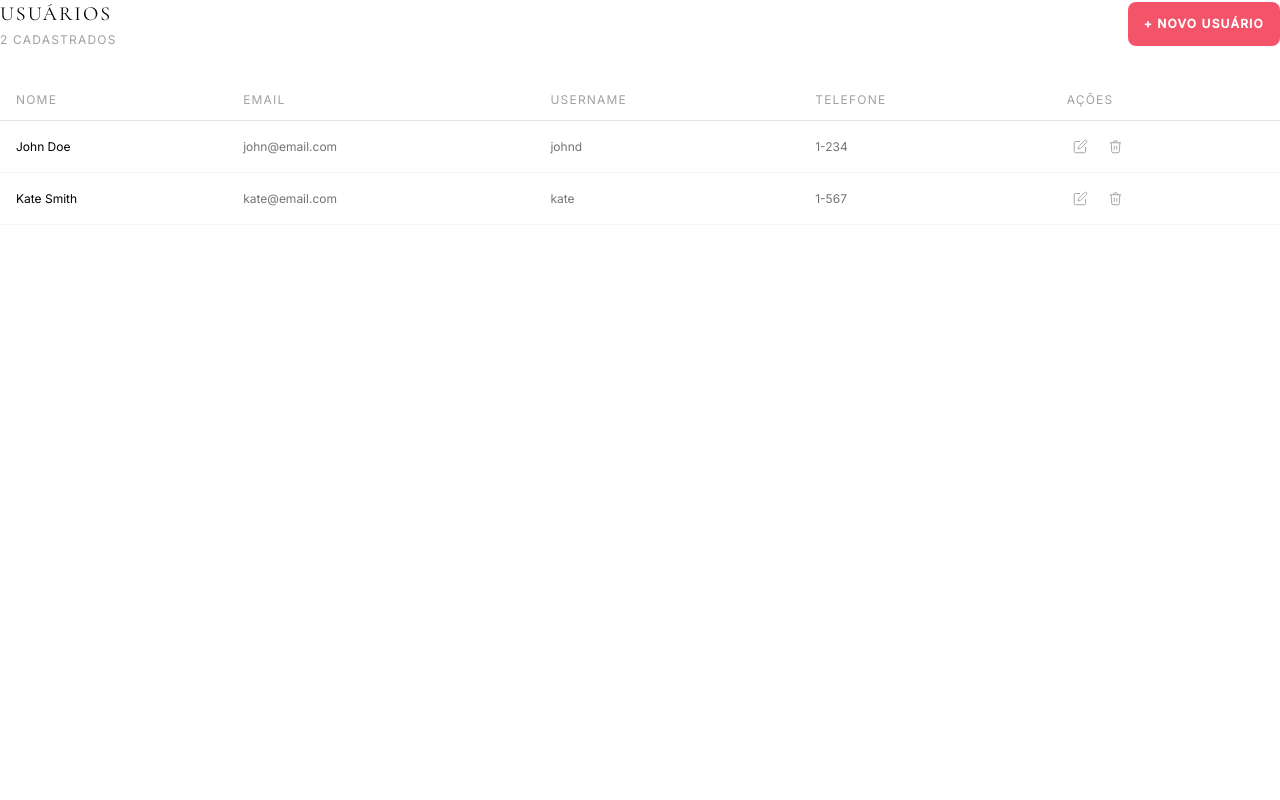
Test: UsersPage (Admin) › CA-F2.1-2: creates a new user and shows it in the list
The width and height of the screenshot is (1280, 800).
Click the button "+ Novo Usuário".
click(1204, 24)  # box [1128,2,1279,46]
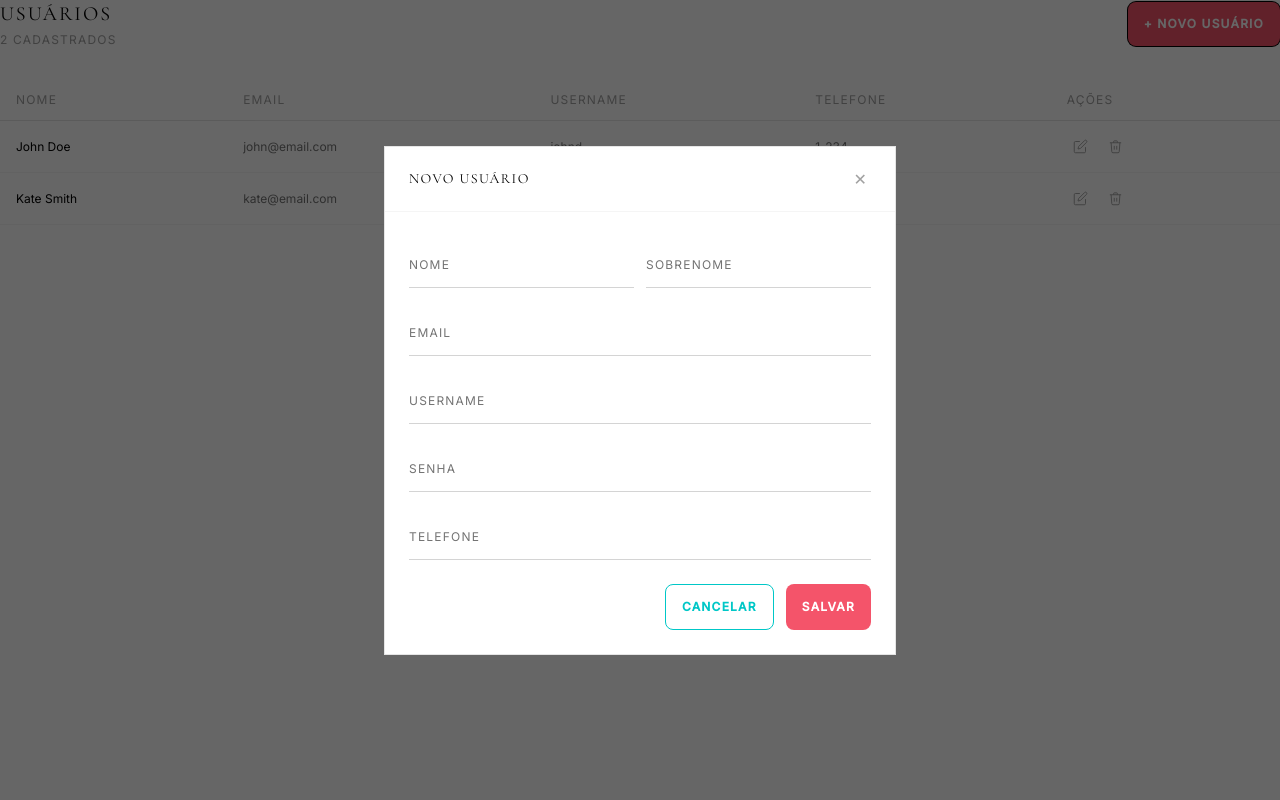
Note: Find inputs within the modal dialog
Type "New" into the field labelled "Nome".
click(522, 273); type("New")  # box [409,258,634,288]
Type "User" into the field labelled "Sobrenome".
click(758, 273); type("User")  # box [646,258,871,288]
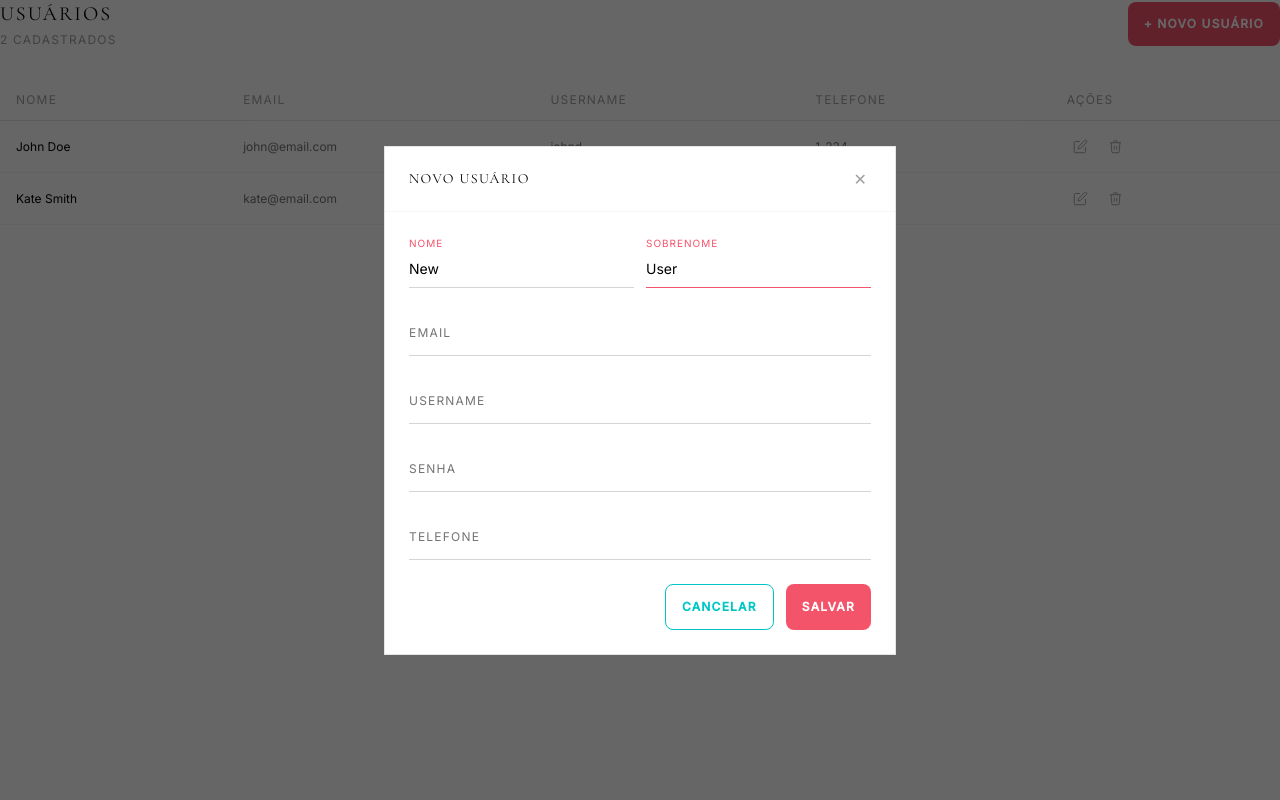
Type "new@email.com" into the field labelled "Email".
click(640, 341); type("new@email.com")  # box [409,326,871,356]
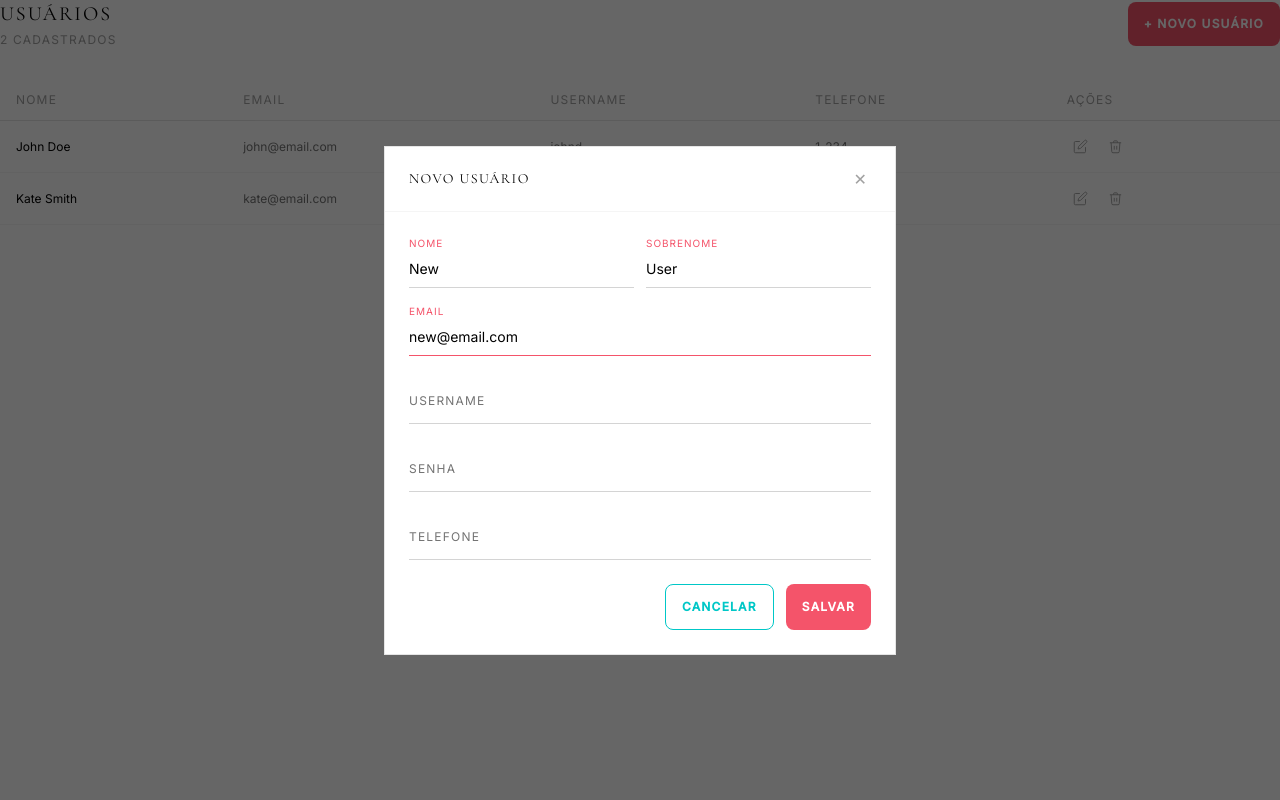
Type "newuser" into the field labelled "Username".
click(640, 409); type("newuser")  # box [409,394,871,424]
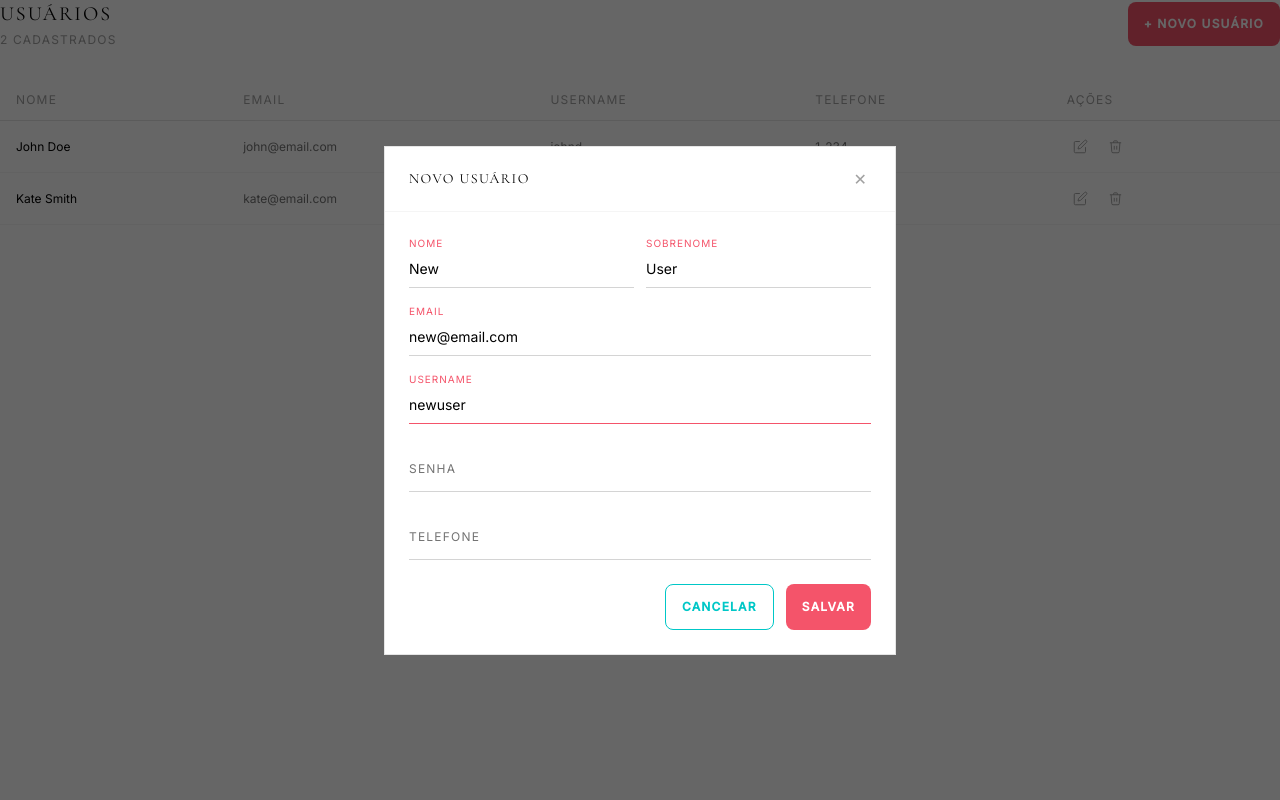
Type "password123" into the password field labelled "Senha".
click(640, 477); type("password123")  # box [409,462,871,492]
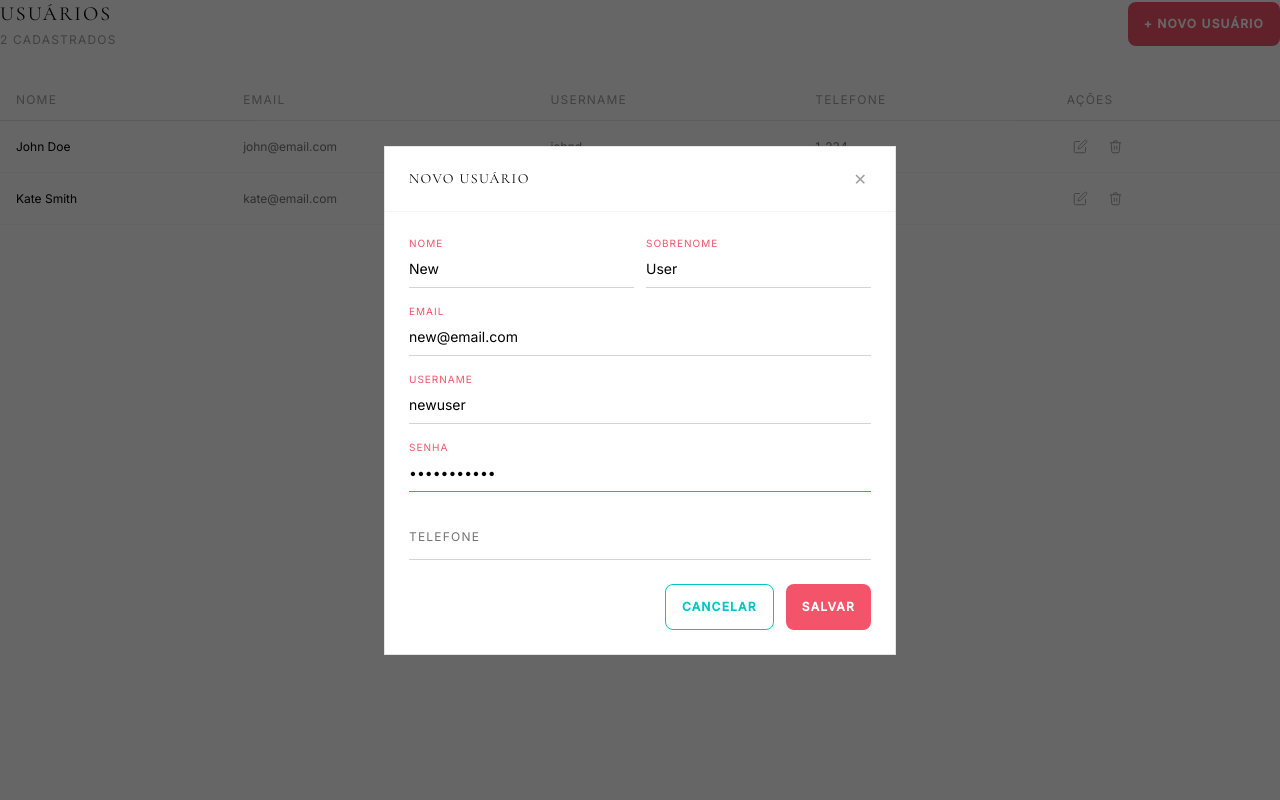
Click the button "Salvar".
click(828, 606)  # box [786,584,871,630]
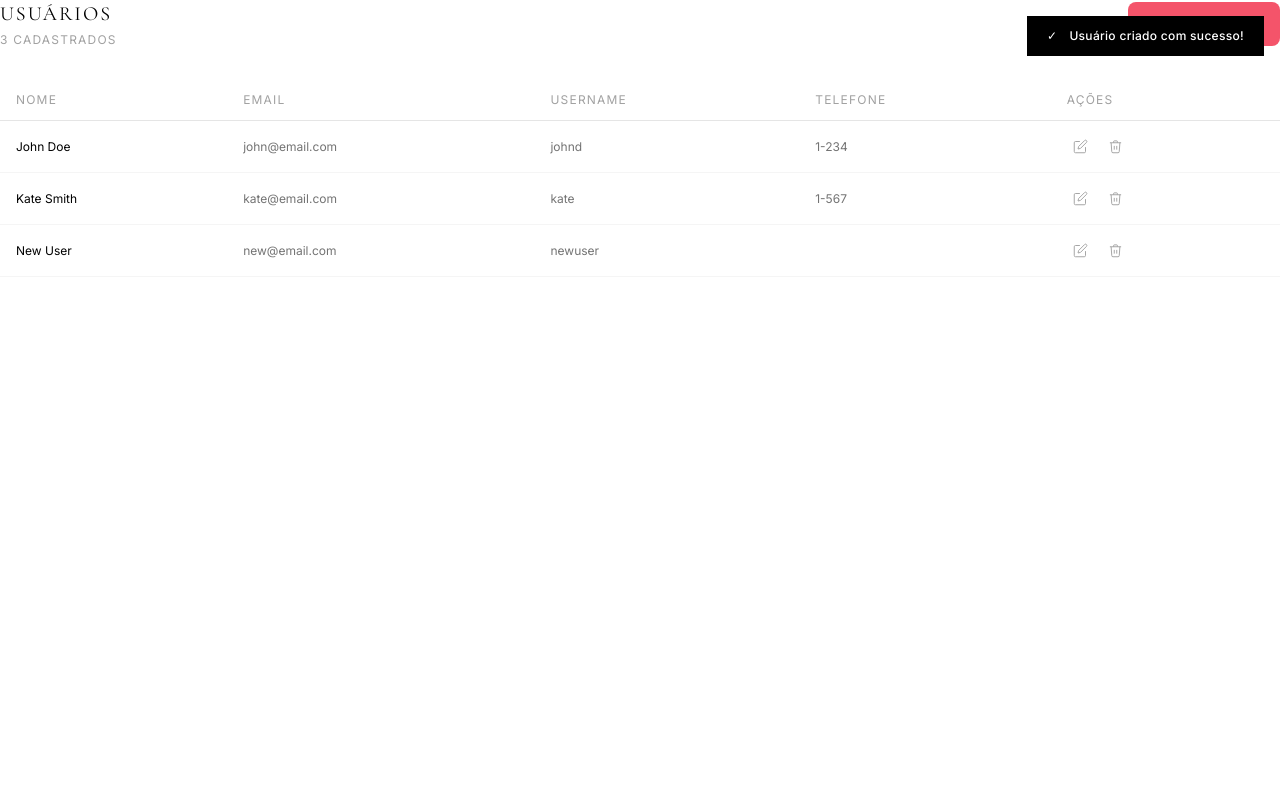
expect the text "newuser" is shown: met, box [534,224,799,276]
expect the text "new@email.com" is shown: met, box [227,224,534,276]
